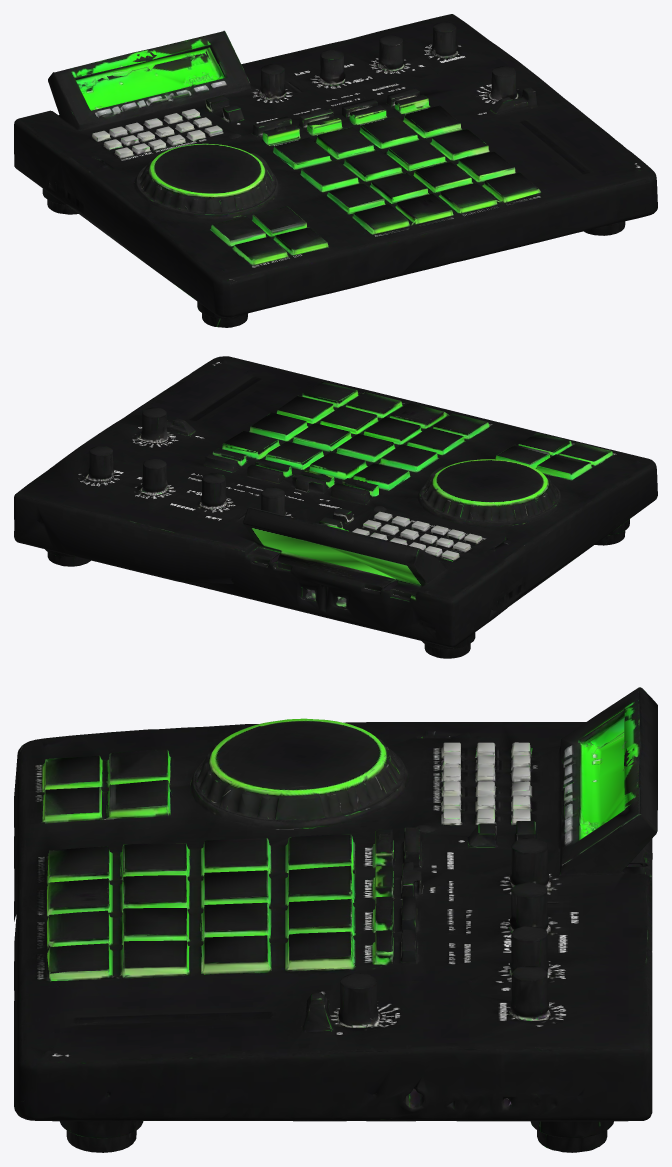
Rendered from mpc-otti.glb.
3 renders of one model, top to bottom at view 1: azimuth 30°, elevation 25°; view 2: azimuth 150°, elevation 25°; view 3: azimuth 270°, elevation 25°, orthographic. The views are drawn at different scales.
Parts seen in each view (by area): view 1: Mesh_0; view 2: Mesh_0; view 3: Mesh_0.
Boxes of the visible parts, x1,y1,x2,y2 form: Mesh_0: (14, 14, 657, 327); Mesh_0: (14, 356, 657, 658); Mesh_0: (14, 687, 657, 1152).
Bounding box in the file's own units: 1.91 × 0.4773 × 1.58.
Materials: 1 (1 with a texture image).
